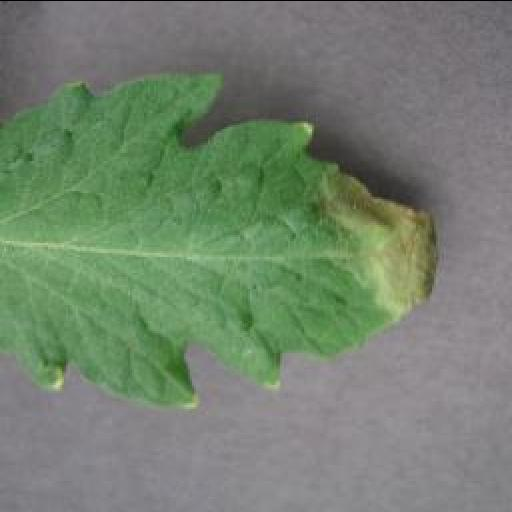disease_tomato: (0, 68, 442, 408)
